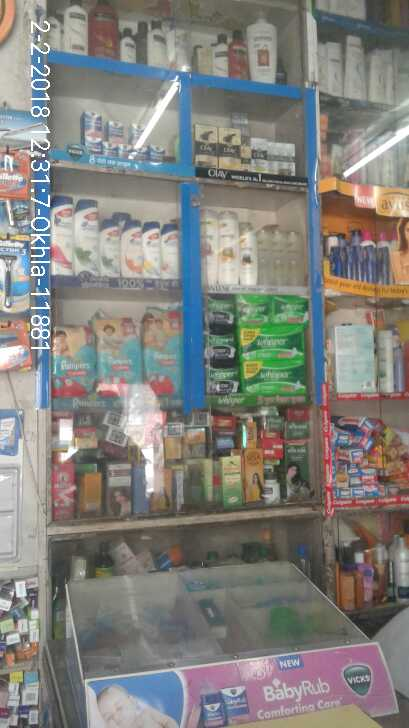vicks: (80, 107, 166, 161)
